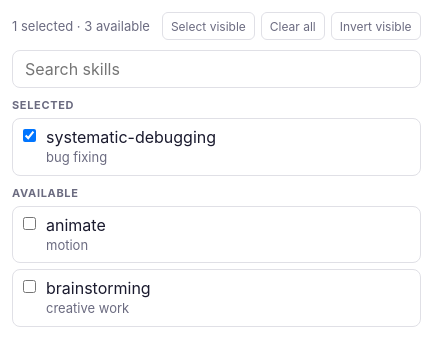
Test: SkillPicker › groups selected visible skills before available skills
This screenshot has width=438, height=344.
Expected: the elements with class "skill-picker-group-title" read "Selected", "Available", in this order, [12, 98, 74, 112]; [12, 186, 78, 200]
Expected: the elements with class "skill-option-name" read "systematic-debugging", "animate", "brainstorming", in this order, [46, 127, 216, 147]; [46, 214, 106, 234]; [46, 278, 151, 298]
Type "ing" into the field with class "skill-picker-search" at (216, 69), box [12, 50, 421, 88]
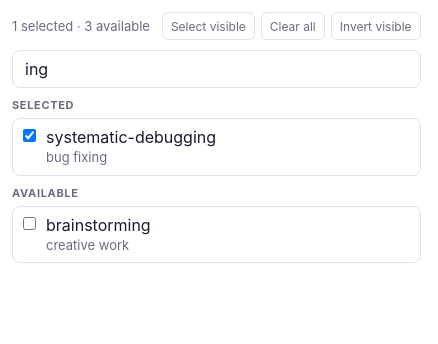
Now the elements with class "skill-option-name" read "systematic-debugging", "brainstorming", in this order, box [46, 127, 216, 147]; [46, 214, 151, 234]
